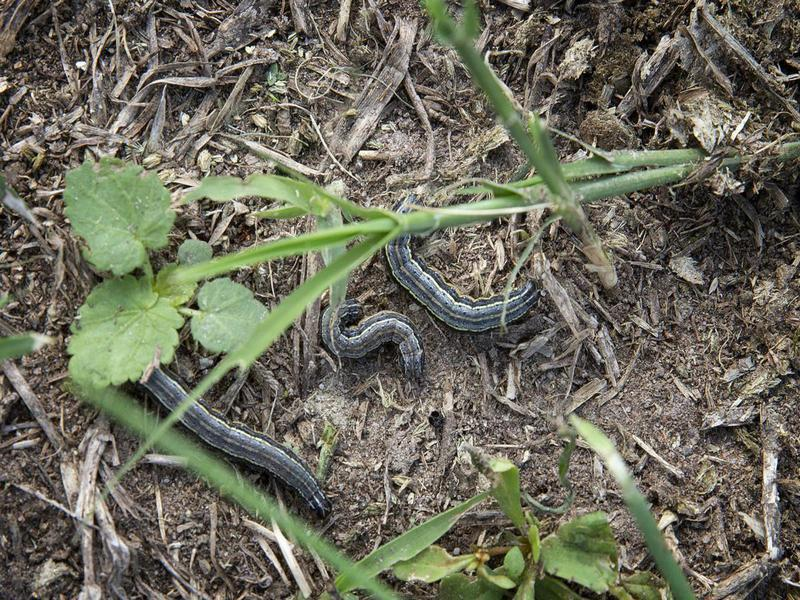Armyworms: (121, 354, 350, 544), (301, 218, 549, 384)
